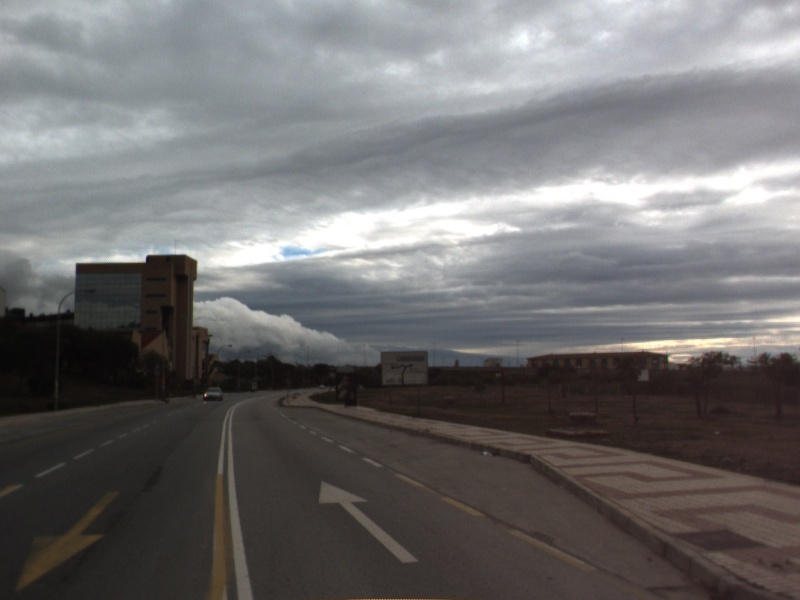STRAIGHT: (314, 476, 424, 565)
